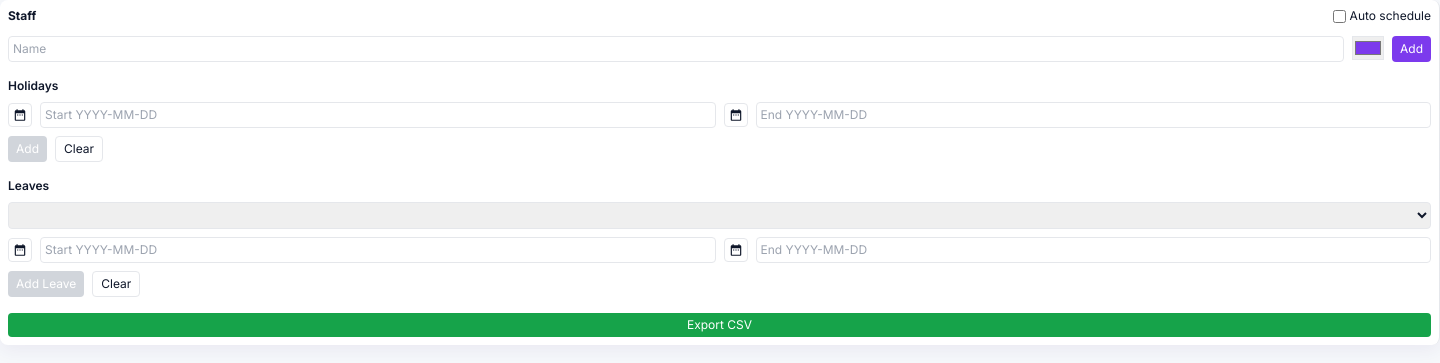
Test: disables Add when end < start
This screenshot has width=1440, height=363.
Type "2025-09-10" into the date field named "holiday start".
click(720, 132); type("2025-09-10")  # box [8, 102, 1431, 162]
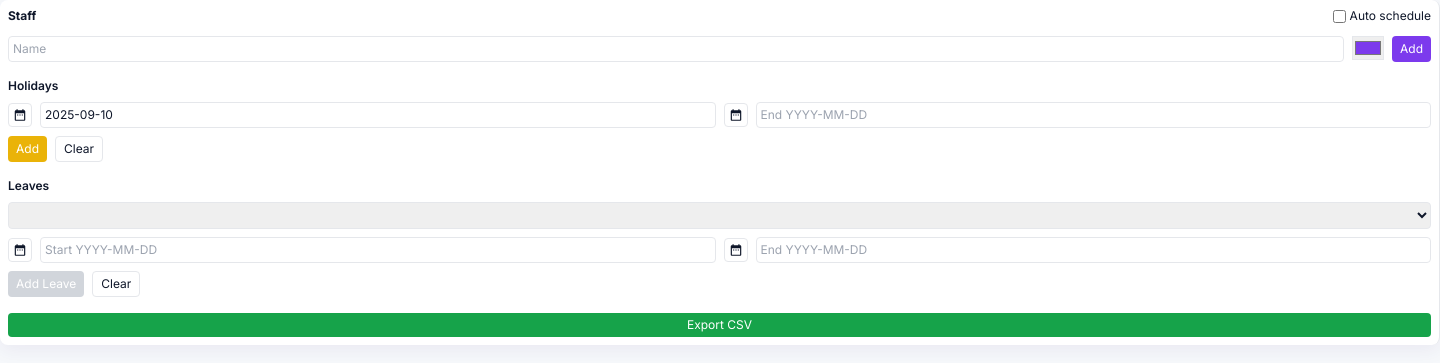
Type "2025-09-09" into the date field named "holiday end".
click(720, 132); type("2025-09-09")  # box [8, 102, 1431, 162]
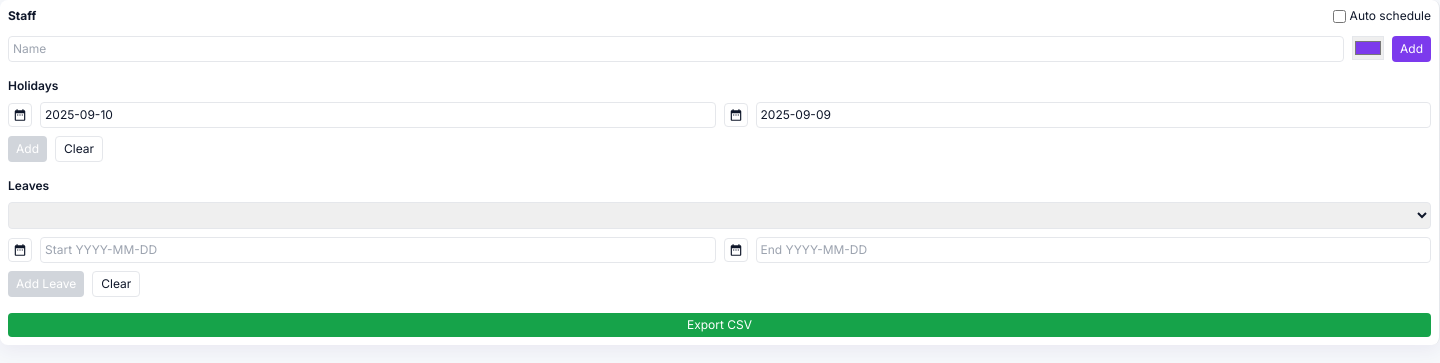
Expected: the button "Add" below "Holidays" is disabled, [8, 136, 47, 162]
